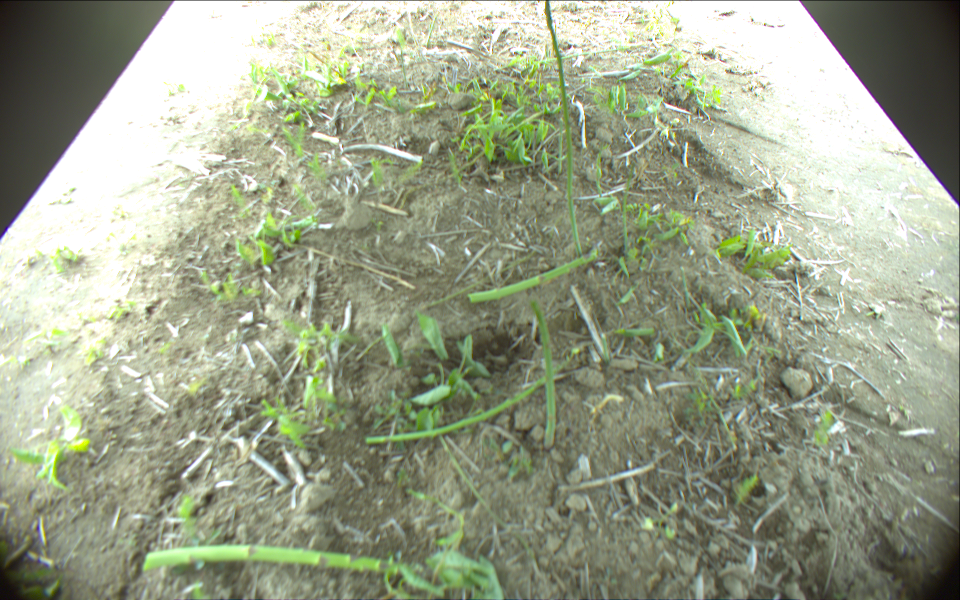aspa: (363, 367, 559, 444), (542, 1, 586, 258), (142, 541, 407, 579), (467, 244, 605, 304), (532, 303, 555, 447)
